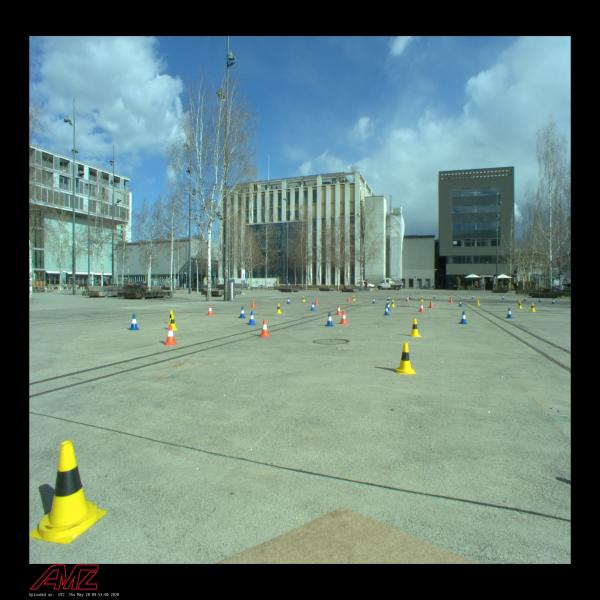blue_cone: (128, 314, 140, 330), (325, 312, 334, 327), (458, 311, 467, 325), (248, 311, 256, 325), (238, 307, 246, 318), (505, 308, 513, 318), (384, 305, 390, 316), (310, 302, 316, 311), (386, 302, 391, 311), (458, 300, 463, 306), (286, 297, 290, 304), (372, 298, 376, 304), (386, 300, 390, 306), (408, 294, 412, 299), (538, 297, 542, 302), (552, 299, 556, 304), (387, 296, 390, 301), (433, 294, 436, 299), (502, 295, 505, 300), (524, 296, 526, 301), (472, 294, 474, 298)
orange_cone: (164, 325, 177, 346), (259, 320, 271, 338), (340, 311, 348, 324), (207, 305, 214, 316), (418, 303, 425, 312), (336, 305, 342, 315), (428, 300, 434, 308), (251, 300, 256, 308), (314, 298, 319, 305), (347, 296, 351, 302), (406, 296, 410, 302), (449, 297, 453, 303)
yellow_cone: (29, 439, 107, 545), (395, 343, 416, 374), (409, 318, 422, 337), (166, 314, 179, 330), (167, 310, 176, 325), (276, 303, 282, 314), (529, 303, 536, 312), (390, 299, 396, 307), (517, 301, 523, 309), (302, 296, 306, 302), (352, 295, 356, 301), (476, 299, 480, 305), (420, 296, 424, 301)
